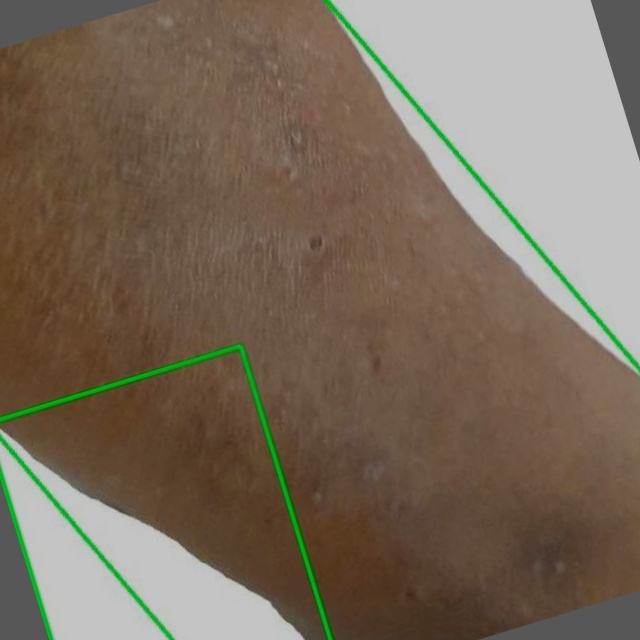Contact Dermatitis: (0, 0, 639, 639), (0, 347, 329, 639)
